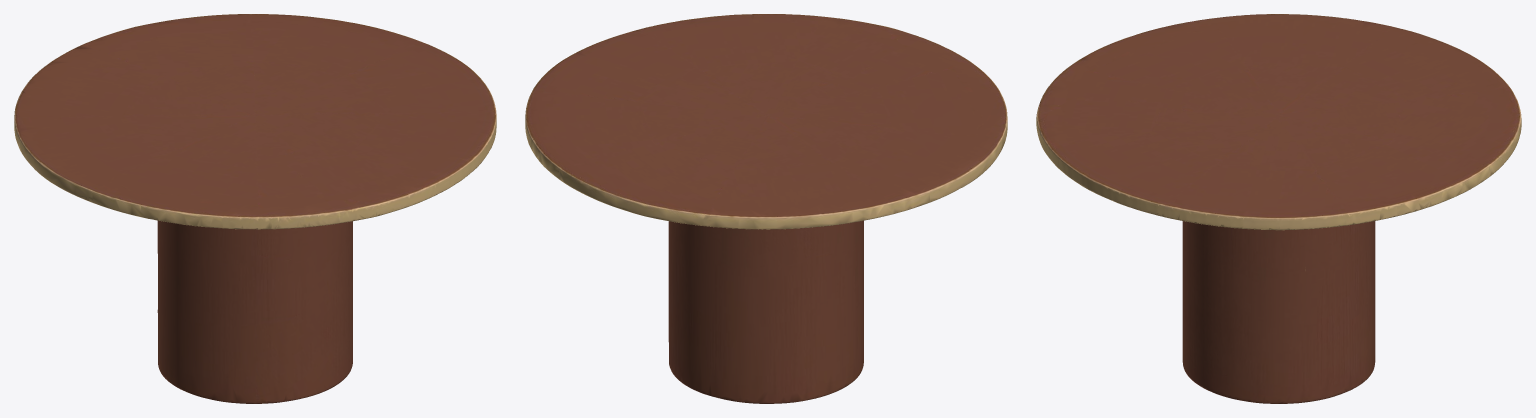
Rendered from JP_사물_s2_table_2seat_old.glb.
3 views of the same model, side by side, from view 1: azimuth 30°, elevation 25°; view 2: azimuth 150°, elevation 25°; view 3: azimuth 270°, elevation 25° (orthographic).
Visible parts, largest first — view 1: tripo_node_f7a42ad8-ccc6-4ed0-b1c4-f3a42721b13f; view 2: tripo_node_f7a42ad8-ccc6-4ed0-b1c4-f3a42721b13f; view 3: tripo_node_f7a42ad8-ccc6-4ed0-b1c4-f3a42721b13f.
Boxes of the visible parts, x1,y1,x2,y2 form: tripo_node_f7a42ad8-ccc6-4ed0-b1c4-f3a42721b13f: (14, 14, 496, 403); tripo_node_f7a42ad8-ccc6-4ed0-b1c4-f3a42721b13f: (525, 14, 1007, 403); tripo_node_f7a42ad8-ccc6-4ed0-b1c4-f3a42721b13f: (1036, 14, 1521, 403).
Size of the model in its own units: 0.9991 by 0.5638 by 0.9999.
Materials: 1 (1 with a texture image).
